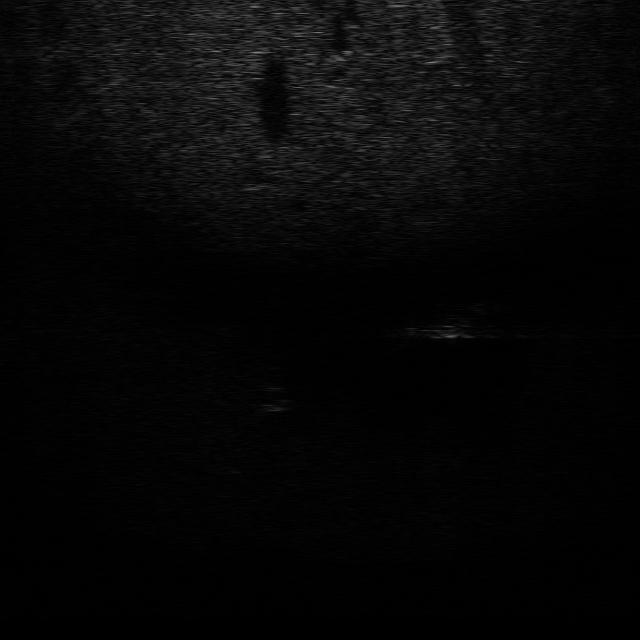ball: (246, 386, 292, 414)
human body: (392, 302, 502, 348)
